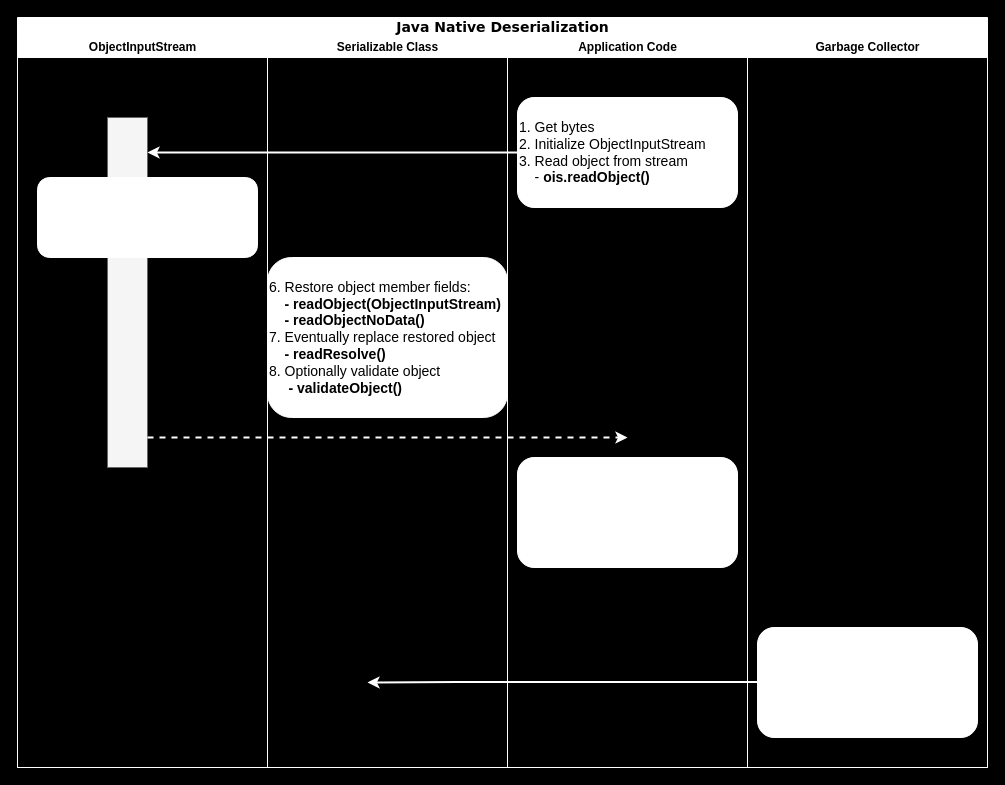
The diagram is 1005 pixels wide and 785 high, and some of its shapes have lost their labels. Each missing label, with the centre of its shape:
"11. Call finalize() on GC" belongs at point (867, 682).
"4. Resolve classes of stream - resolveClass() 5. Deserialize objects" belongs at point (147, 217).
"9. Cast deserialized object to expected type 10. Use deserialized object" belongs at point (627, 512).
